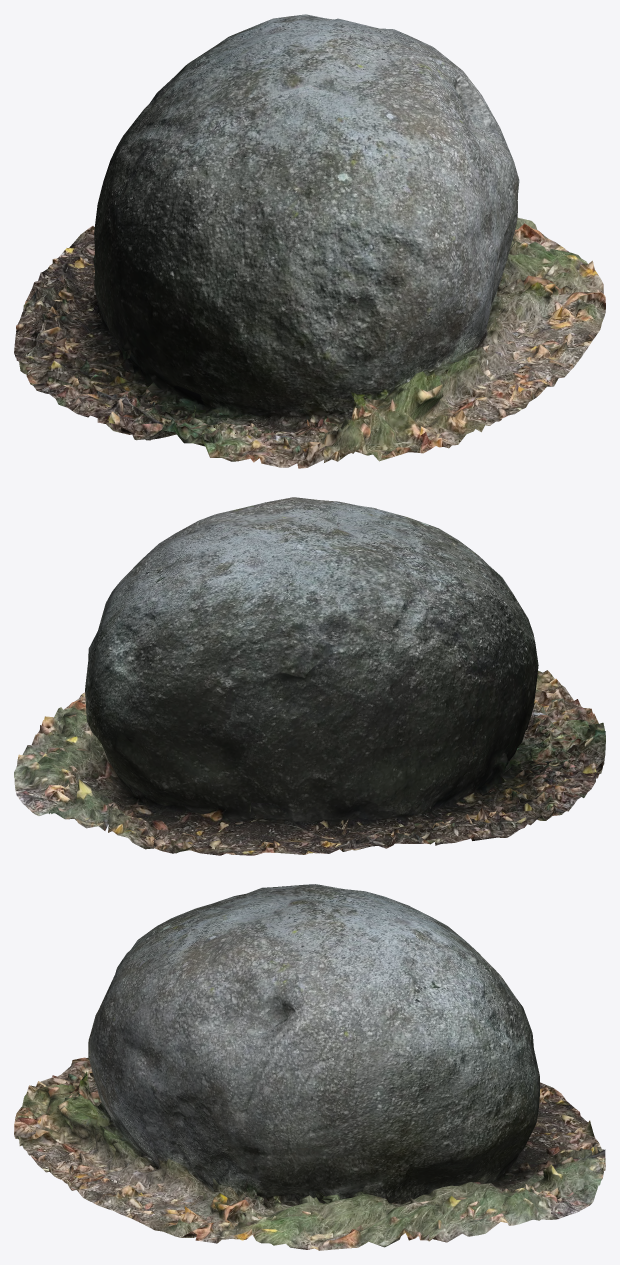
The model's file is rock_boulder.glb.
The picture shows the model from 3 angles, top to bottom: view 1: azimuth 30°, elevation 25°; view 2: azimuth 150°, elevation 25°; view 3: azimuth 270°, elevation 25°; orthographic projection. The views are drawn at different scales.
Visible parts, largest first — view 1: big_boulder; view 2: big_boulder; view 3: big_boulder.
Part boxes in pixels (x1=…): big_boulder: x1=14, y1=14, x2=605, y2=468; big_boulder: x1=14, y1=497, x2=605, y2=855; big_boulder: x1=14, y1=884, x2=605, y2=1250.
Bounding box in the file's own units: 1.78 × 0.8552 × 1.86.
1 material, 1 textured.
